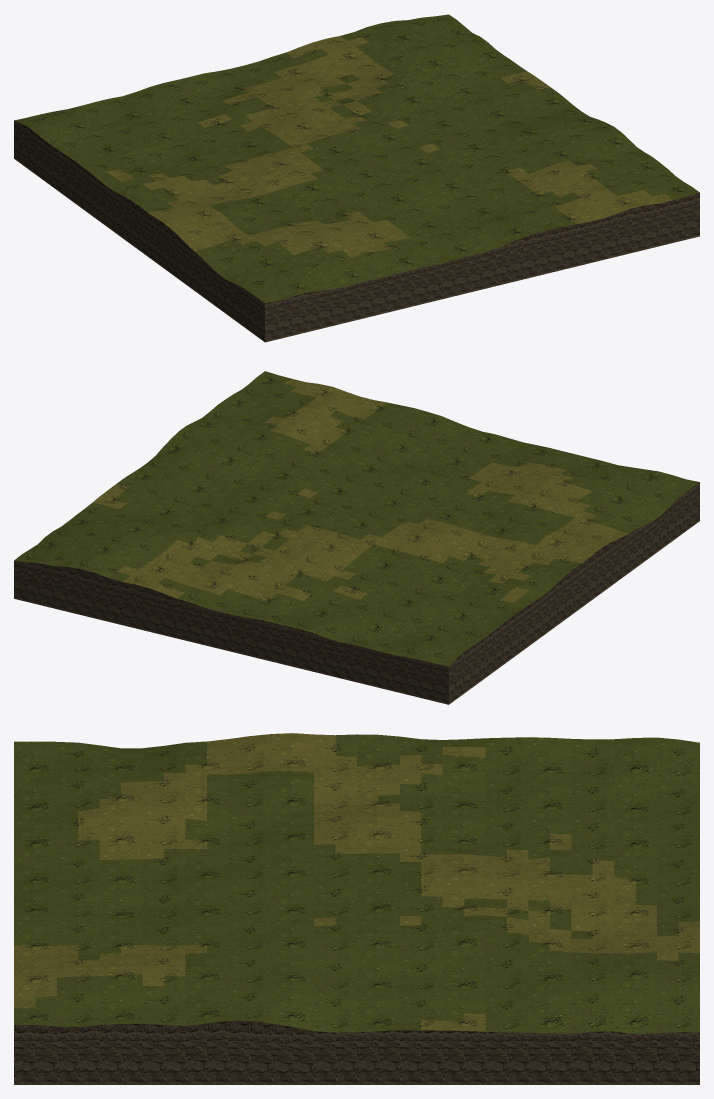
File: meadow_01.glb
3 renders of one model, top to bottom at view 1: azimuth 30°, elevation 25°; view 2: azimuth 150°, elevation 25°; view 3: azimuth 270°, elevation 25°, orthographic. The views are drawn at different scales.
Visible parts, largest first — view 1: meadow_01; view 2: meadow_01; view 3: meadow_01.
Part boxes in pixels (x1,y1,x2,y2): meadow_01: (14,14,699,342); meadow_01: (14,371,699,704); meadow_01: (14,733,699,1084).
Size of the model in its own units: 16 by 1.69 by 16.
3 materials, 3 textured.
